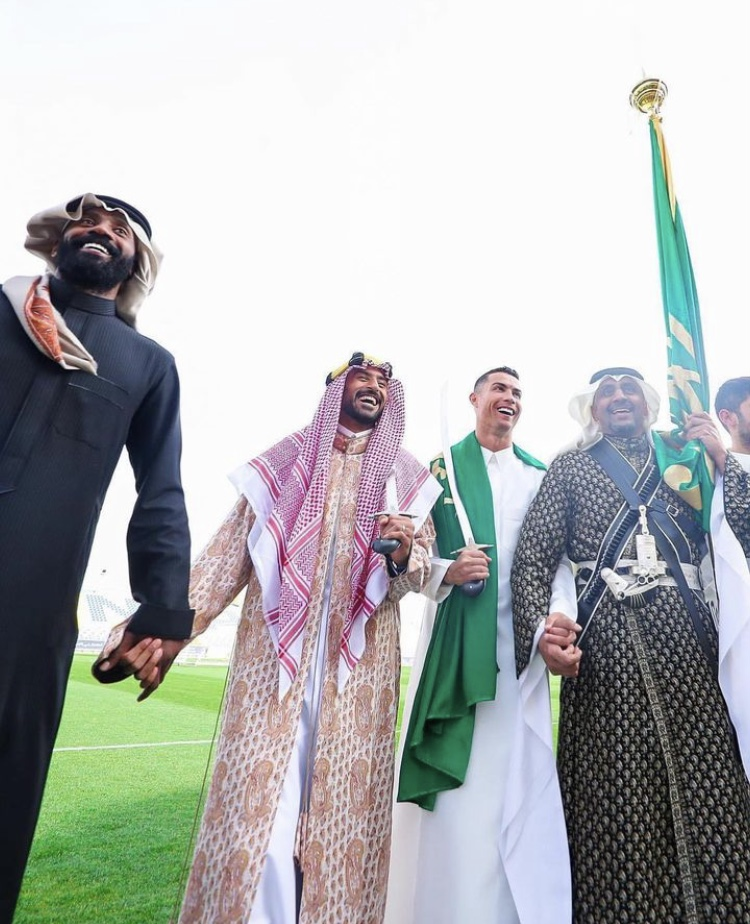Saudi_Founding_Day: (90, 351, 439, 924)
